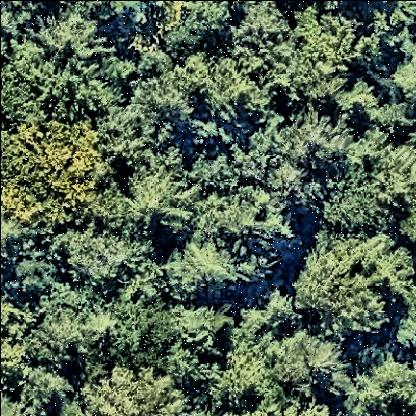tree-top: (2, 20, 128, 127), (286, 245, 398, 348), (2, 124, 108, 227), (186, 183, 293, 284), (106, 74, 215, 158), (149, 47, 261, 117), (86, 304, 187, 381), (309, 165, 397, 245), (286, 8, 378, 82), (240, 115, 330, 190), (117, 161, 196, 235), (330, 351, 416, 416), (76, 366, 186, 416), (233, 1, 298, 83), (270, 330, 346, 400), (52, 229, 128, 293), (20, 302, 96, 366), (155, 2, 233, 64), (207, 353, 276, 416)
